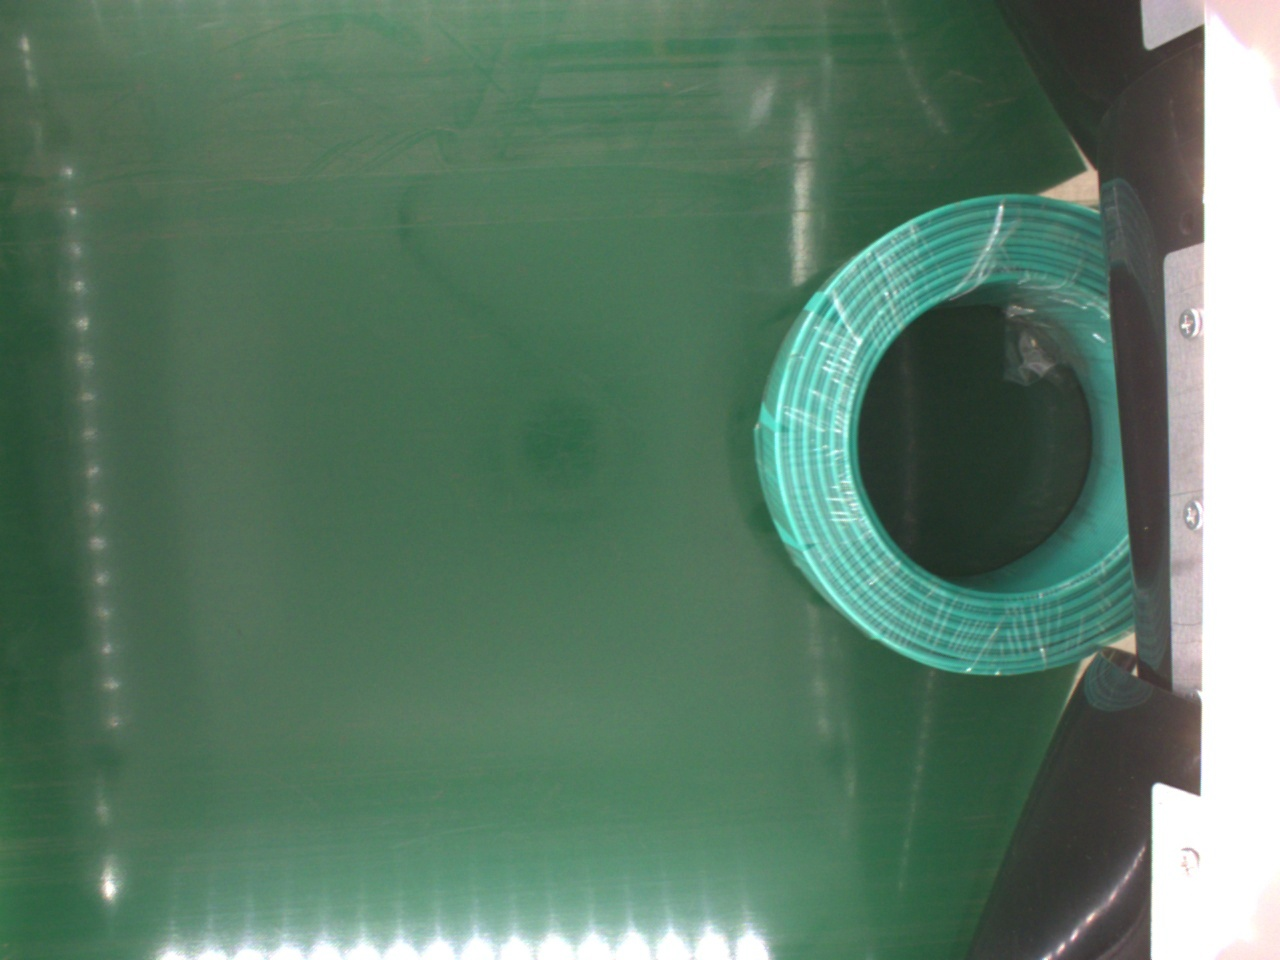green: (752, 192, 1148, 680)
